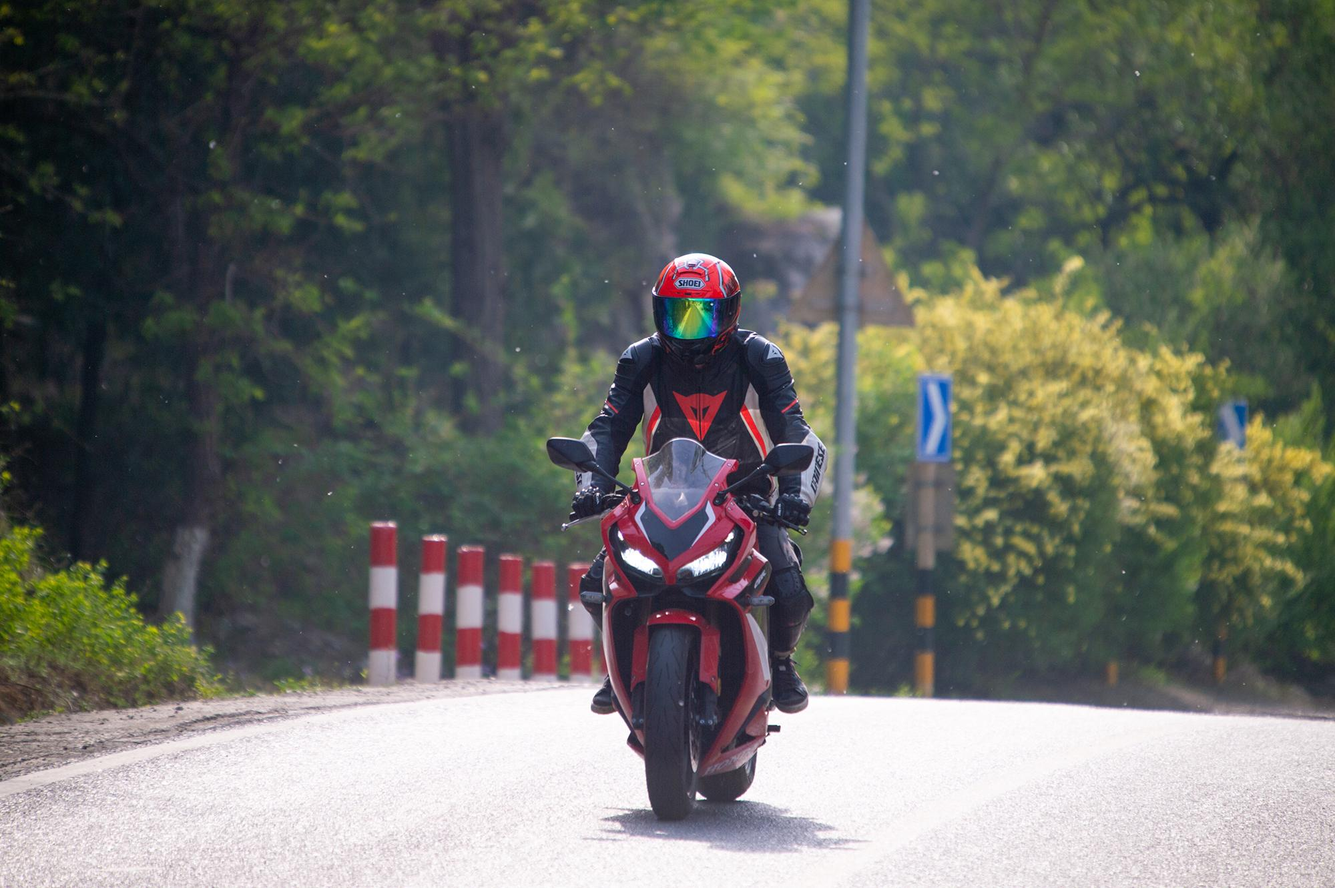helmet: (651, 252, 742, 366)
